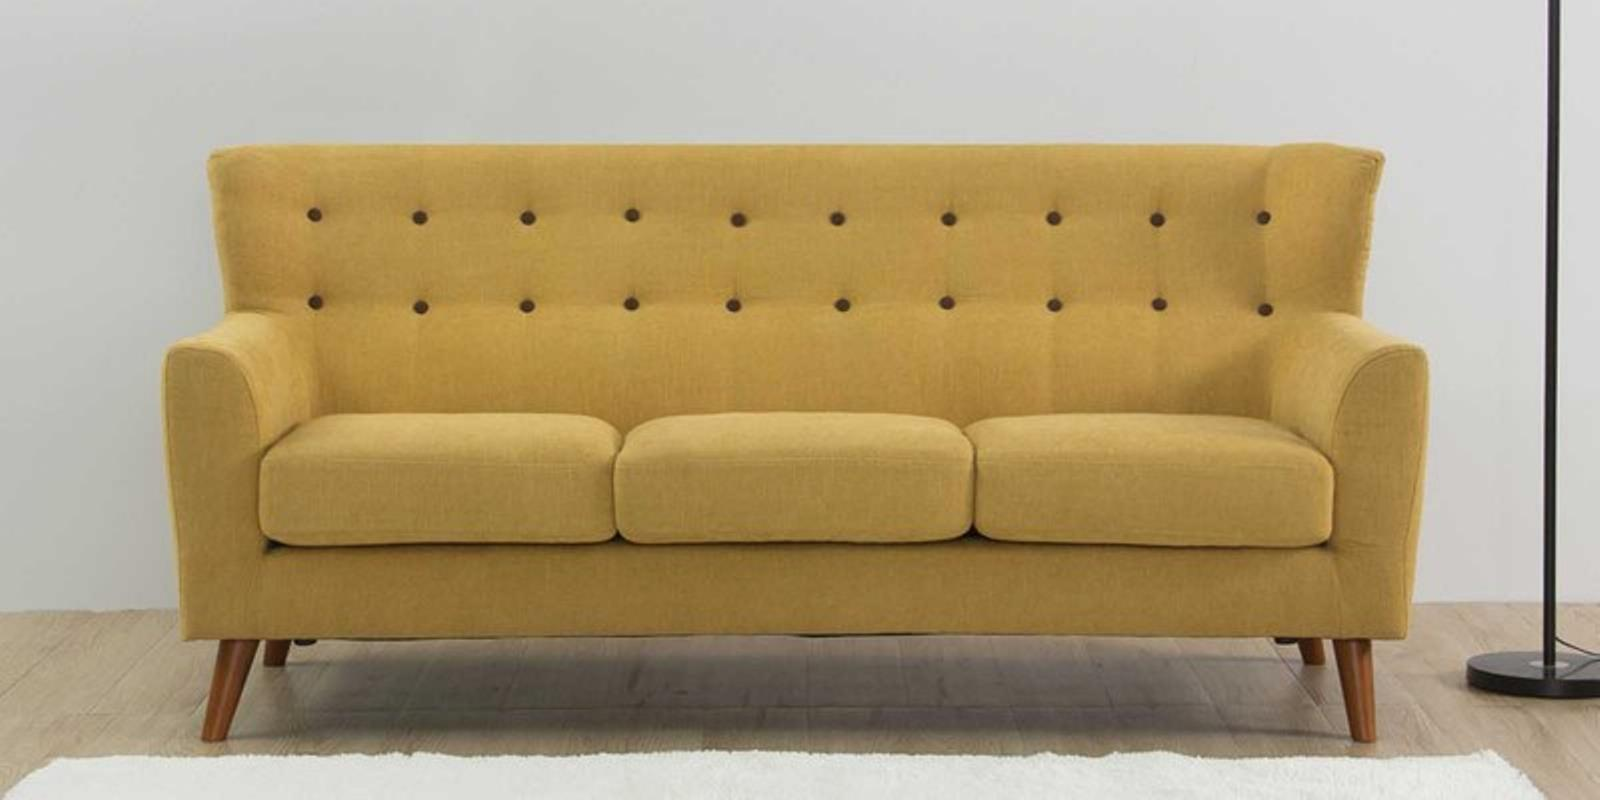Havana Three Seater Sofa in Ochre Colour by CasaCraft: (155, 121, 1455, 772)
